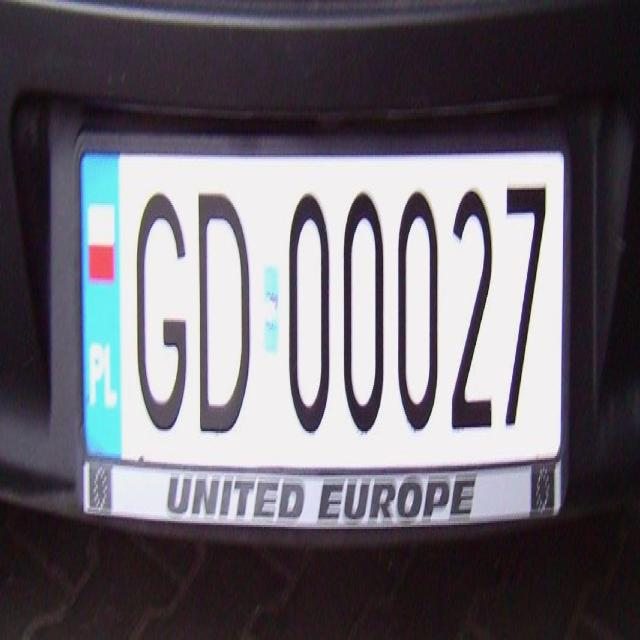pl_license_plate: (78, 146, 565, 464)
